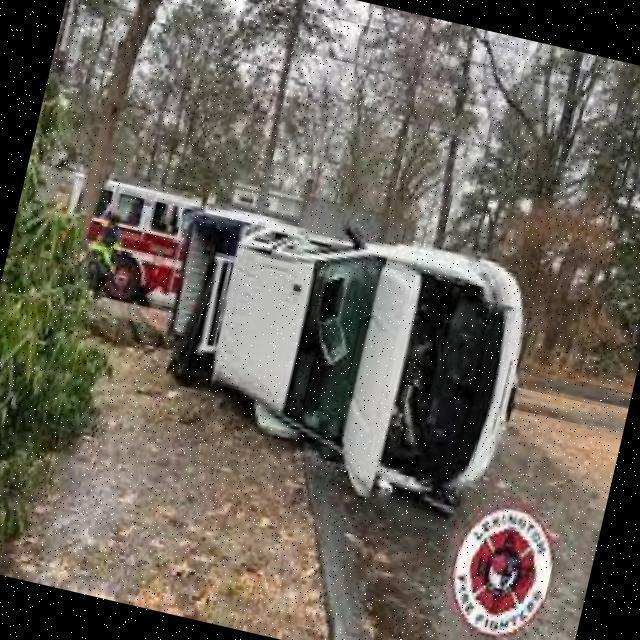accident: (136, 190, 548, 526)
